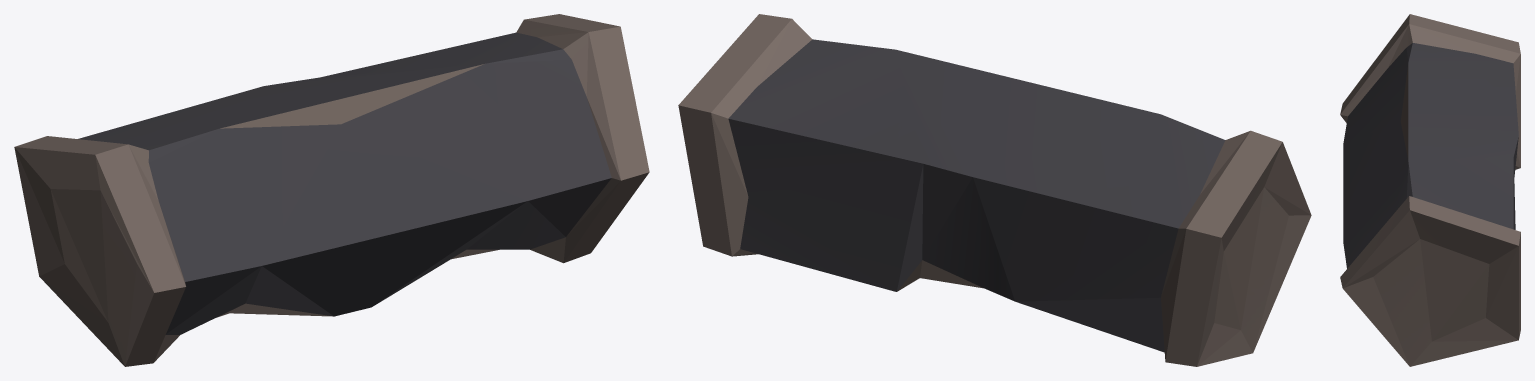
File: Log.fbx
3 renders of one model, left to right at view 1: azimuth 30°, elevation 25°; view 2: azimuth 150°, elevation 25°; view 3: azimuth 270°, elevation 25°, orthographic. The views are drawn at different scales.
Visible parts, largest first — view 1: LuxHouse.001; view 2: LuxHouse.001; view 3: LuxHouse.001.
Part boxes in pixels (x1=…): LuxHouse.001: x1=14, y1=14, x2=649, y2=366; LuxHouse.001: x1=678, y1=14, x2=1311, y2=366; LuxHouse.001: x1=1340, y1=14, x2=1520, y2=366.
Bounding box in the file's own units: 241 × 95.15 × 90.49.
